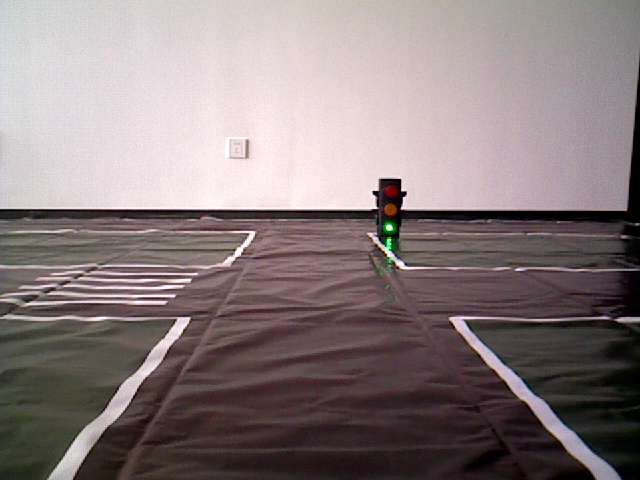green: (378, 182, 398, 234)
